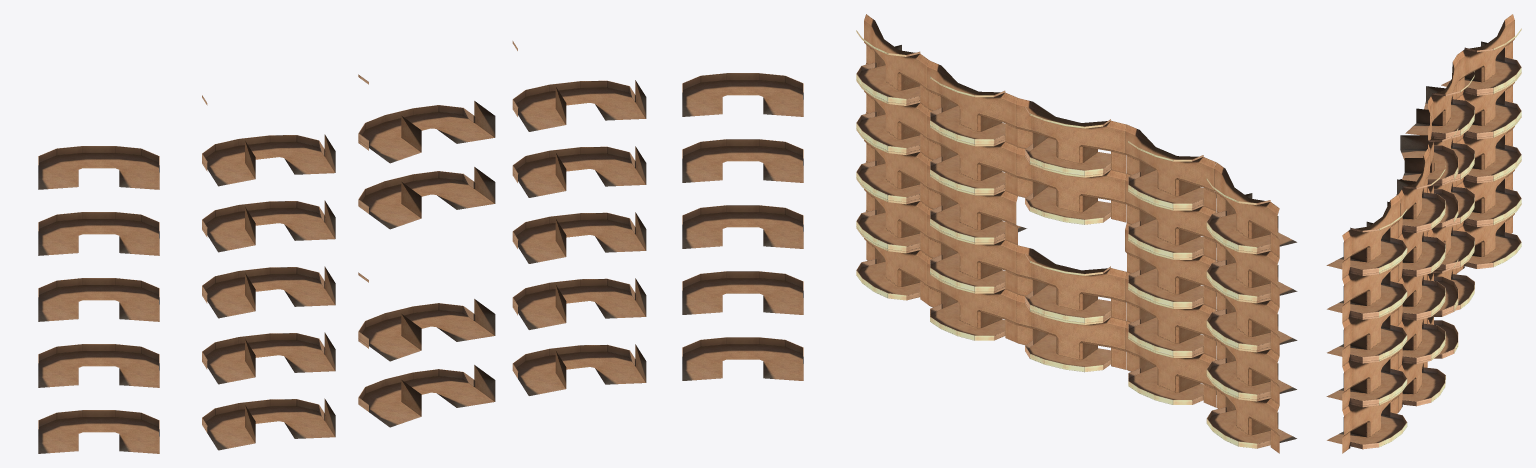
File: OutdoorFacade_mesh.glb
3 views of the same model, side by side, from view 1: azimuth 30°, elevation 25°; view 2: azimuth 150°, elevation 25°; view 3: azimuth 270°, elevation 25° (orthographic). The views are drawn at different scales.
Visible parts, largest first — view 1: OutdoorFacade_mesh; view 2: OutdoorFacade_mesh; view 3: OutdoorFacade_mesh.
Boxes of the visible parts, <box> form: OutdoorFacade_mesh: <box>38,41,803,453</box>; OutdoorFacade_mesh: <box>856,14,1297,453</box>; OutdoorFacade_mesh: <box>1326,14,1521,453</box>.
Bounding box in the file's own units: 97.93 × 45.37 × 36.44.
Materials: 1 (1 with a texture image).
